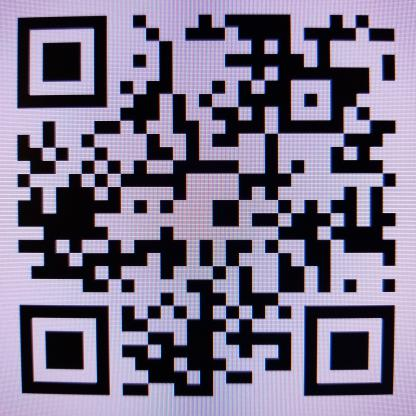qr: (13, 11, 404, 405)
